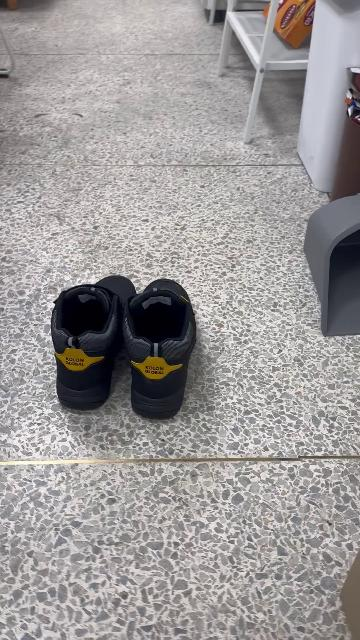shoe_worn: (53, 275, 137, 408), (129, 277, 200, 420)
